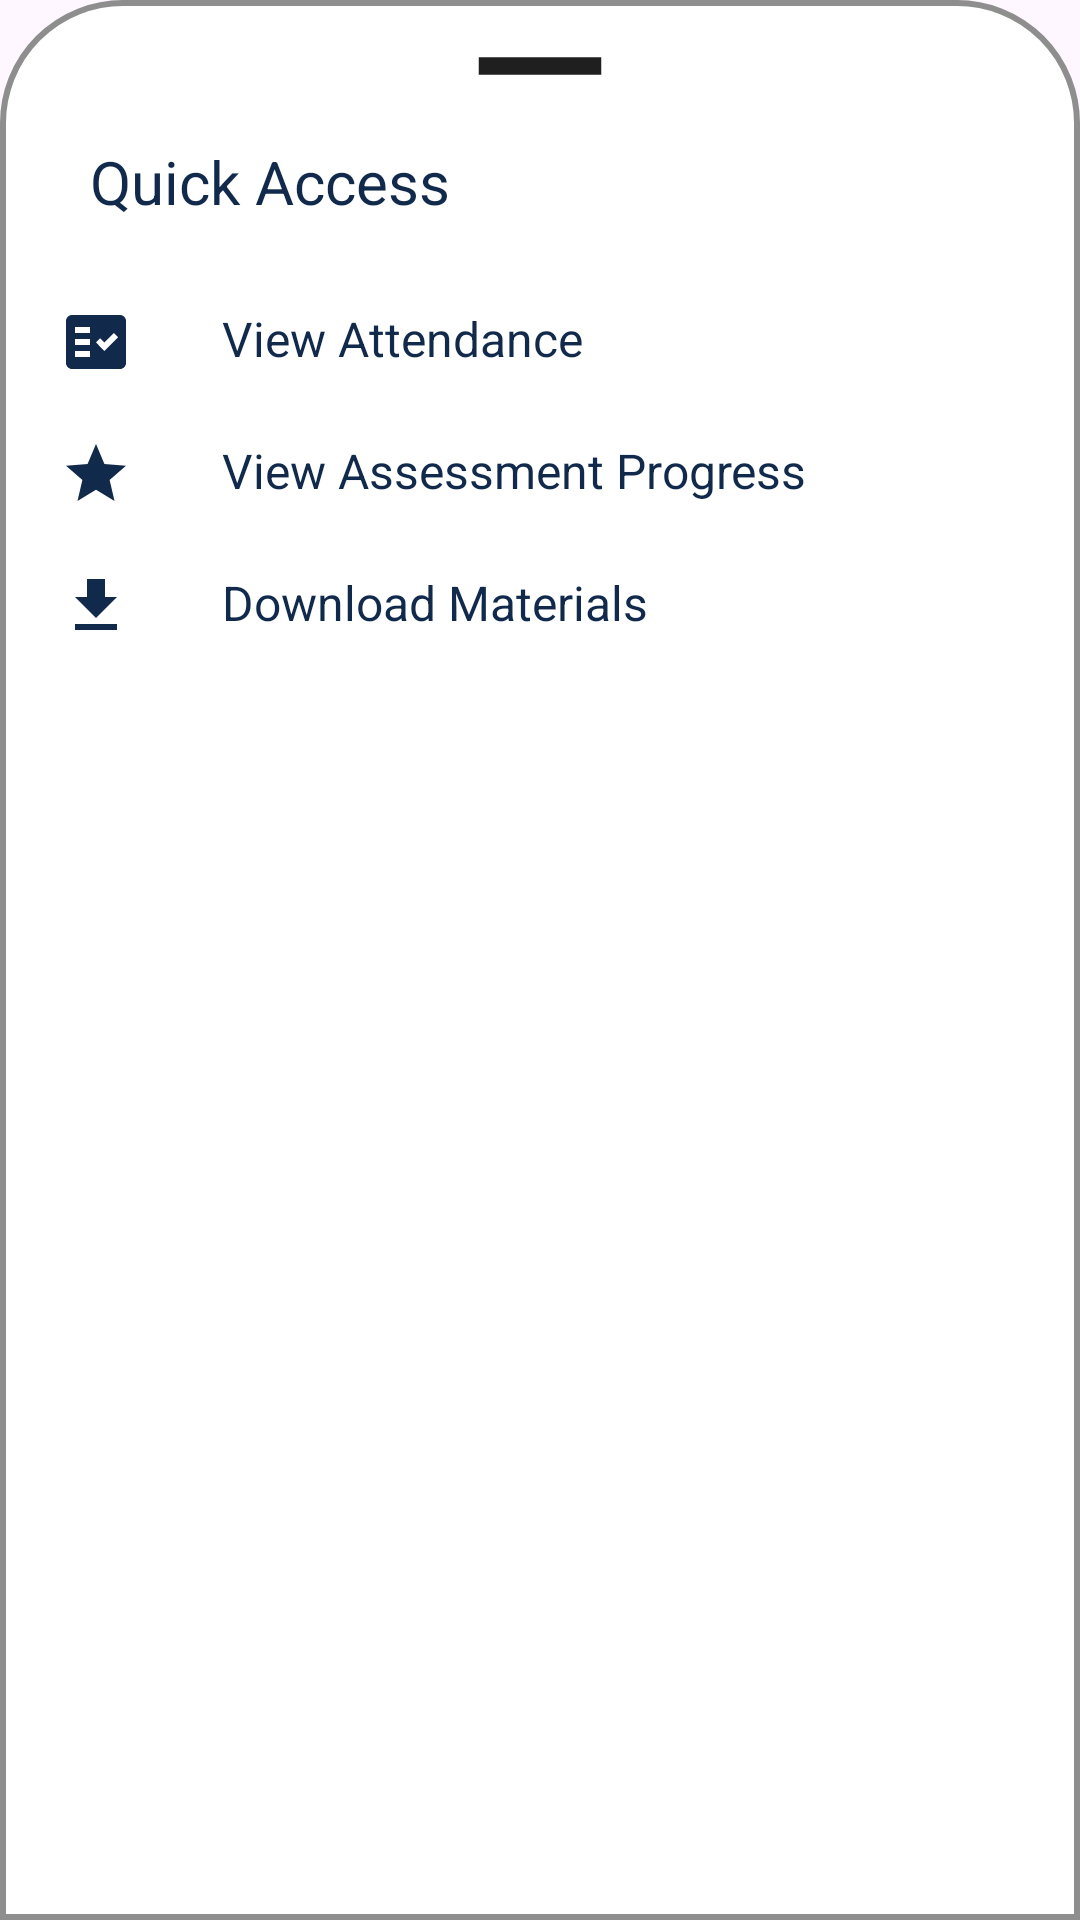

Icons on this 1080 x 1920 Android screen, each with its box as (x1, y1, x2, y2):
fact check: (66, 315, 126, 369)
grade: (66, 444, 126, 501)
